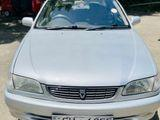car: (6, 1, 160, 120)
